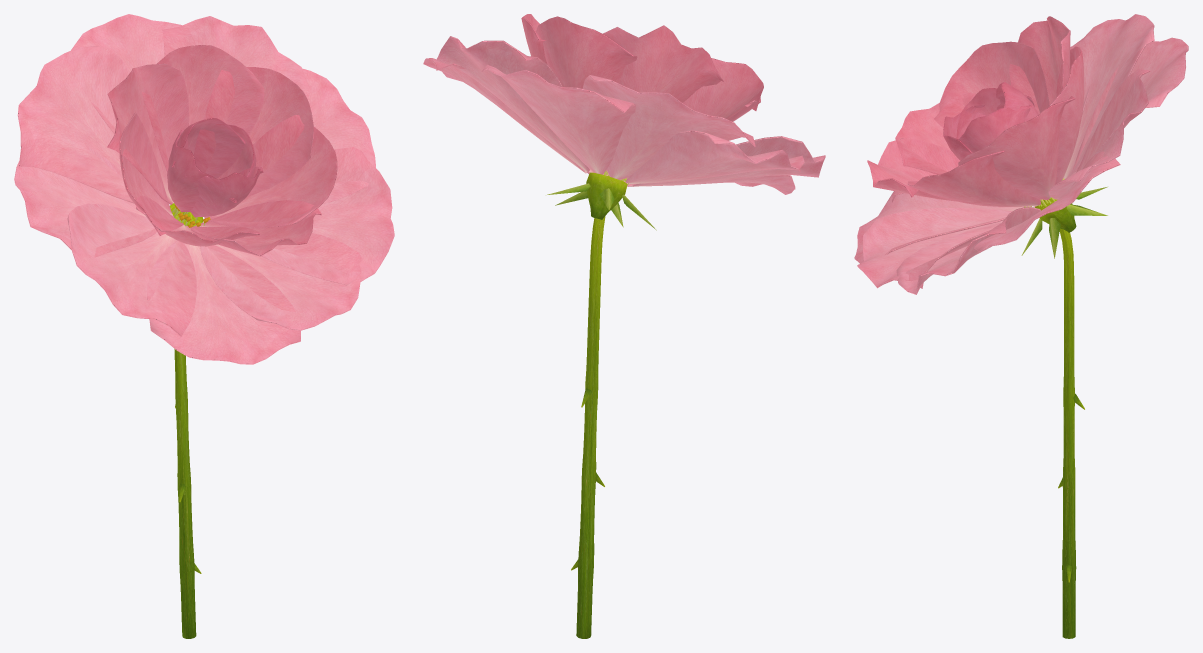
Rendered from rose_20.glb.
3 views of the same model, side by side, from view 1: azimuth 30°, elevation 25°; view 2: azimuth 150°, elevation 25°; view 3: azimuth 270°, elevation 25° (orthographic). The views are drawn at different scales.
Visible parts, largest first — view 1: Petal_1_outer_03, Petal_3_outer_04, Petal_4_outer_01, Petal_5_outer_04, Petal_6_outer_02, Petal_11_middle_01, Petal_14_middle_03, Petal_13_middle_01, Petal_12_middle_04, Petal_2_outer_02, Petal_8_outer_02, Stem_Skinned (+9 smaller); view 2: Petal_0_outer_01, Petal_1_outer_03, Stem_Skinned, Petal_14_middle_03, Petal_2_outer_02, Petal_8_outer_02, Petal_13_middle_01, Petal_15_middle_04, Petal_3_outer_04, Hypanthium_and_five_sepals, Petal_7_outer_03, Petal_4_outer_01 (+1 smaller); view 3: Petal_5_outer_04, Petal_1_outer_03, Stem_Skinned, Petal_12_middle_04, Petal_15_middle_04, Petal_11_middle_01, Petal_8_outer_02, Petal_0_outer_01, Petal_6_outer_02, Petal_14_middle_03, Petal_10_middle_03, Petal_13_middle_01 (+8 smaller).
Part boxes in pixels (x1=…): Petal_1_outer_03: x1=17, y1=46, x2=134, y2=203; Petal_3_outer_04: x1=67, y1=203, x2=196, y2=336; Petal_4_outer_01: x1=147, y1=240, x2=300, y2=364; Petal_5_outer_04: x1=200, y1=233, x2=361, y2=330; Petal_6_outer_02: x1=261, y1=147, x2=394, y2=285; Petal_11_middle_01: x1=204, y1=115, x2=337, y2=228; Petal_14_middle_03: x1=107, y1=63, x2=189, y2=204; Petal_13_middle_01: x1=142, y1=45, x2=264, y2=172; Petal_12_middle_04: x1=204, y1=67, x2=313, y2=196; Petal_2_outer_02: x1=14, y1=145, x2=156, y2=257; Petal_8_outer_02: x1=162, y1=16, x2=310, y2=99; Stem_Skinned: x1=174, y1=212, x2=201, y2=638; Petal_0_outer_01: x1=481, y1=64, x2=635, y2=174; Petal_1_outer_03: x1=582, y1=75, x2=755, y2=179; Stem_Skinned: x1=571, y1=216, x2=605, y2=638; Petal_14_middle_03: x1=603, y1=25, x2=723, y2=102; Petal_2_outer_02: x1=626, y1=130, x2=804, y2=184; Petal_8_outer_02: x1=436, y1=36, x2=589, y2=171; Petal_13_middle_01: x1=536, y1=16, x2=637, y2=88; Petal_15_middle_04: x1=683, y1=58, x2=763, y2=119; Petal_3_outer_04: x1=632, y1=136, x2=825, y2=186; Hypanthium_and_five_sepals: x1=547, y1=172, x2=656, y2=230; Petal_7_outer_03: x1=423, y1=58, x2=586, y2=173; Petal_4_outer_01: x1=624, y1=175, x2=795, y2=194; Petal_5_outer_04: x1=857, y1=208, x2=1012, y2=288; Petal_1_outer_03: x1=1063, y1=14, x2=1154, y2=178; Stem_Skinned: x1=1045, y1=198, x2=1084, y2=638; Petal_12_middle_04: x1=958, y1=96, x2=1075, y2=200; Petal_15_middle_04: x1=934, y1=41, x2=1049, y2=127; Petal_11_middle_01: x1=907, y1=150, x2=1040, y2=206; Petal_8_outer_02: x1=1048, y1=69, x2=1150, y2=199; Petal_0_outer_01: x1=1071, y1=37, x2=1188, y2=175; Petal_6_outer_02: x1=896, y1=207, x2=1040, y2=294; Petal_14_middle_03: x1=1009, y1=16, x2=1070, y2=113; Petal_10_middle_03: x1=867, y1=138, x2=959, y2=201; Petal_13_middle_01: x1=1048, y1=46, x2=1084, y2=184.
Size of the model in its own units: 0.1982 by 0.3284 by 0.1693.
Materials: 7 (7 with a texture image).
